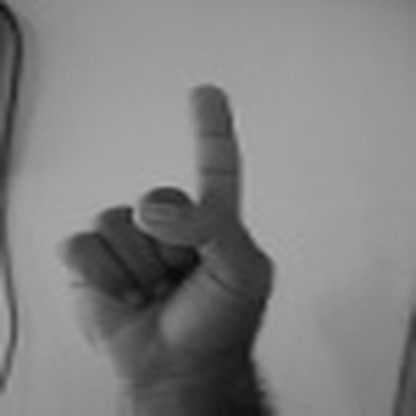d: (58, 75, 280, 359)
